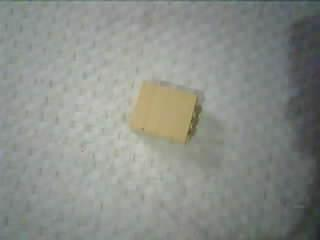lego: (127, 80, 199, 146)
